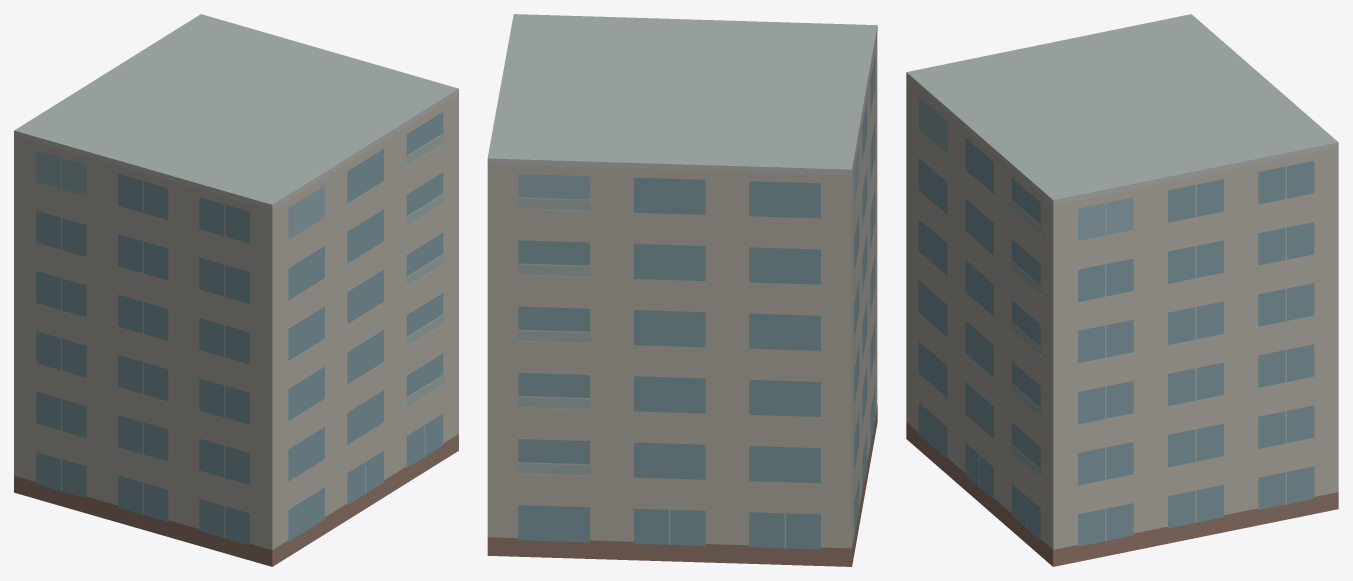
The model's file is survey-upis-32707212.glb.
The picture shows the model from 3 angles, left to right: view 1: azimuth 30°, elevation 25°; view 2: azimuth 150°, elevation 25°; view 3: azimuth 270°, elevation 25°; orthographic projection. The views are drawn at different scales.
Visible parts, largest first — view 1: survey-upis-32707212.tmp; view 2: survey-upis-32707212.tmp; view 3: survey-upis-32707212.tmp.
Boxes of the visible parts, left/top/right/bottom form: survey-upis-32707212.tmp: left=14, top=14, right=458, bottom=566; survey-upis-32707212.tmp: left=487, top=14, right=877, bottom=566; survey-upis-32707212.tmp: left=906, top=14, right=1338, bottom=566.
Bounding box in the file's own units: 18.84 × 17.3 × 18.49.
